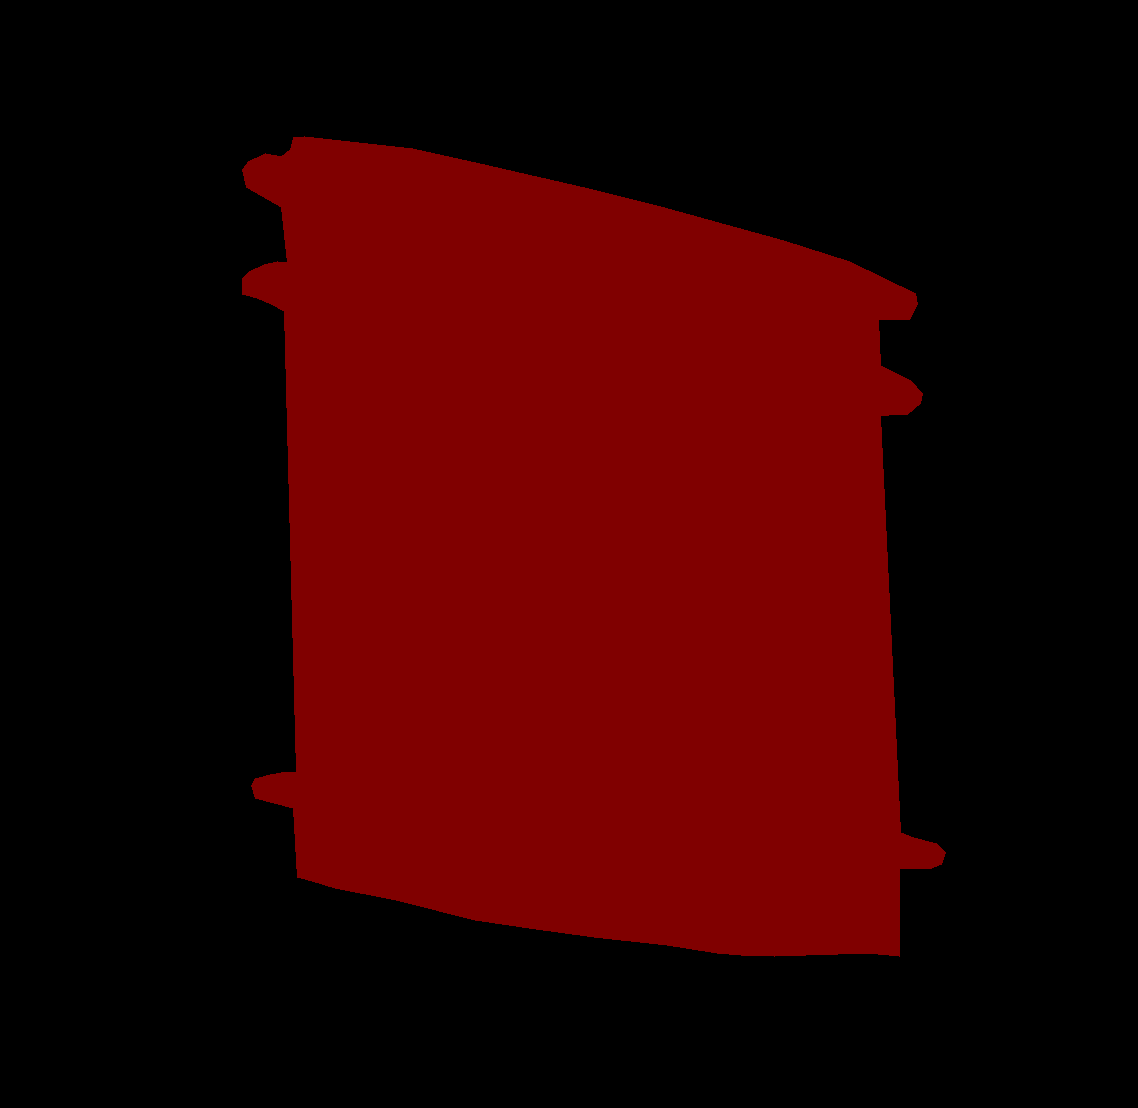sign: (242, 136, 945, 956)
